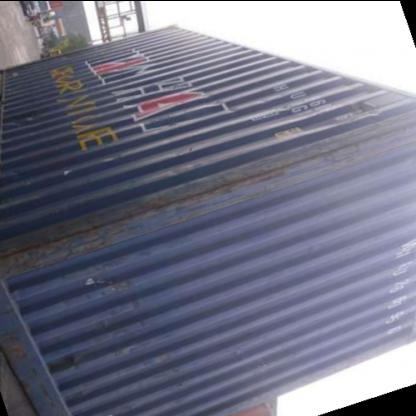Damage: (22, 198, 185, 266), (174, 152, 328, 206), (306, 115, 412, 159)
